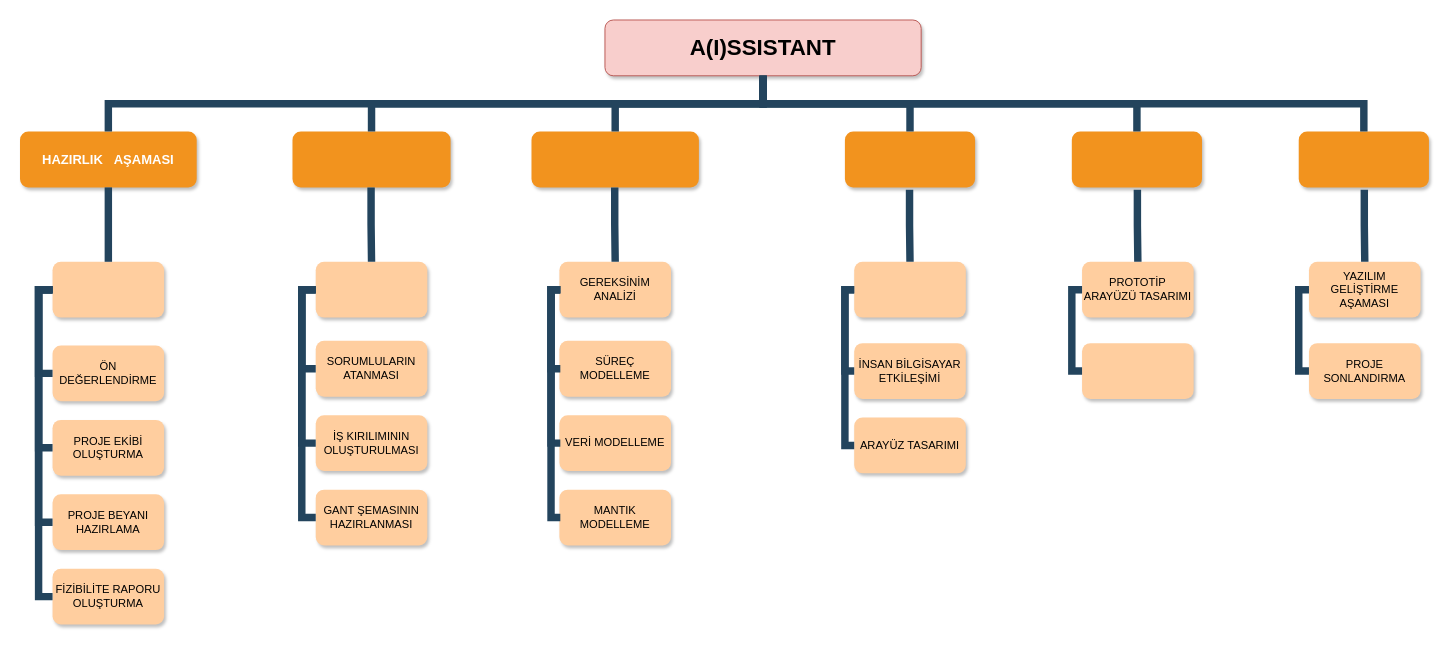
Image size: 1450x647. Some labels were removed from this diagram. The centre of each missing label's shape, as x and y in pixels:
"ANALİZ AŞAMASI" goes at (x=615, y=160).
"İŞ PAKETLERİNİN BELİRLENMESİ" goes at (x=372, y=291).
"MİMARİ TASARIM" goes at (x=910, y=291).
"PLANLAMA AŞAMASI" goes at (x=372, y=160).
"PROTOTİP HAZIRLAMA AŞAMASI" goes at (x=1137, y=160).
"SİSTEM GELİŞTİRME AŞAMASI" goes at (x=1364, y=160).
"SİSTEM İSTEĞİ" goes at (x=108, y=291).
"TASARIM AŞAMASI" goes at (x=910, y=160).
"TEST SÜRECİ" goes at (x=1138, y=372).
